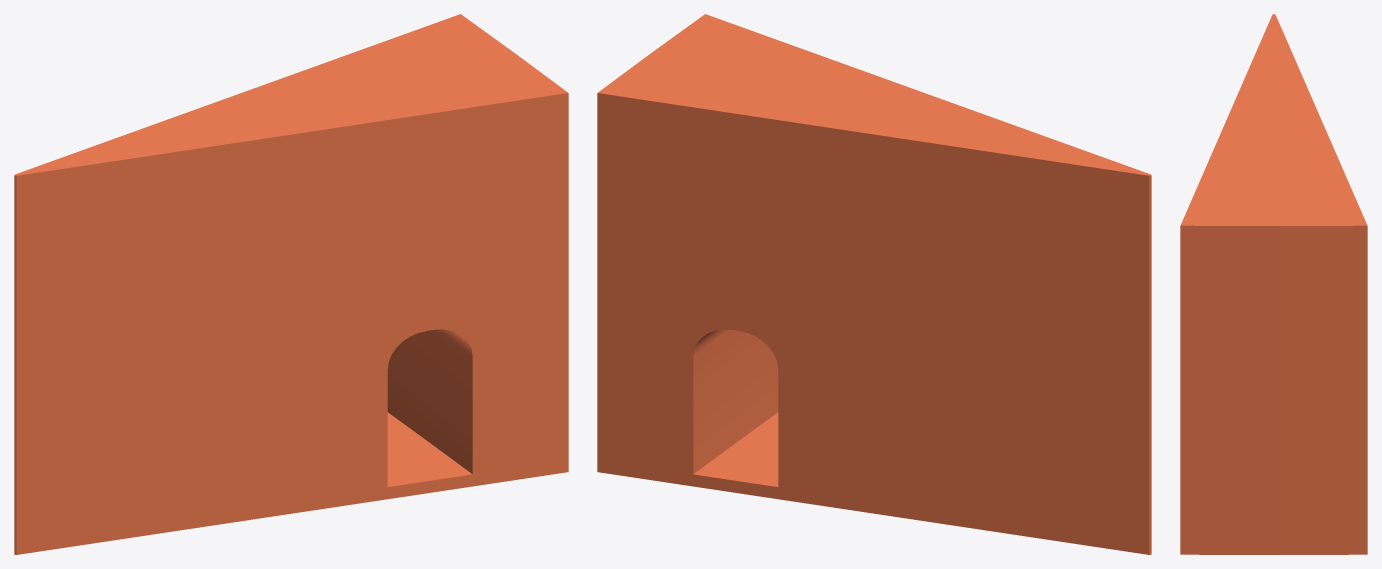
Rendered from creamroom_WEDGEDOOR.fbx.
3 renders of one model, left to right at view 1: azimuth 30°, elevation 25°; view 2: azimuth 150°, elevation 25°; view 3: azimuth 270°, elevation 25°, orthographic. The views are drawn at different scales.
Visible parts, largest first — view 1: wall_1.002; view 2: wall_1.002; view 3: wall_1.002.
Boxes of the visible parts, x1,y1,x2,y2 form: wall_1.002: (14, 14, 568, 554); wall_1.002: (597, 14, 1151, 554); wall_1.002: (1180, 14, 1367, 554).
Bounding box in the file's own units: 249 × 180 × 93.09.
